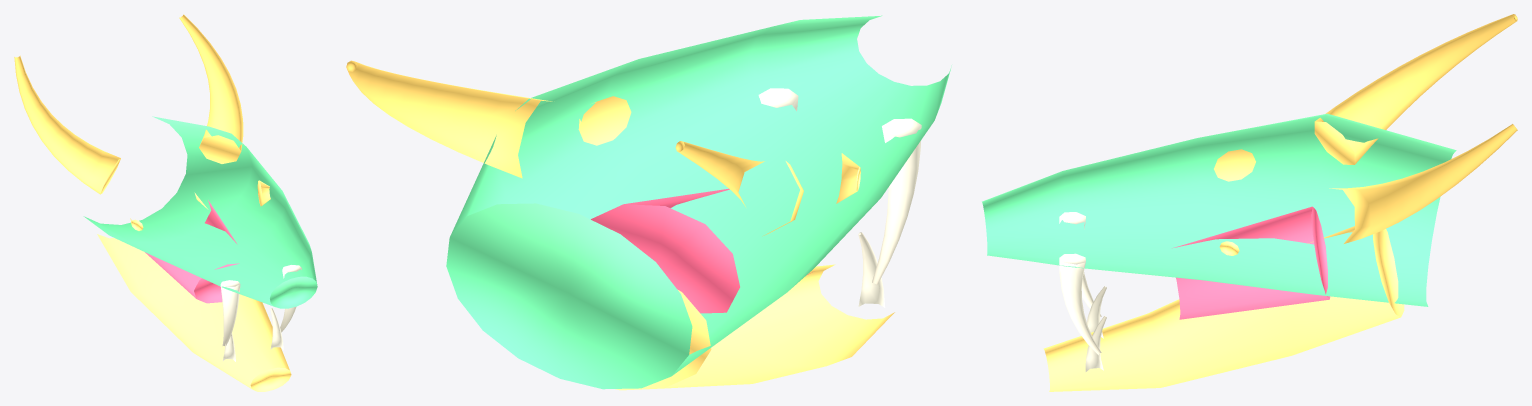
Rendered from snake_head.glb.
The picture shows the model from 3 angles, left to right: view 1: azimuth 30°, elevation 25°; view 2: azimuth 150°, elevation 25°; view 3: azimuth 270°, elevation 25°; orthographic projection. The views are drawn at different scales.
Visible parts, largest first — view 1: snake_head; view 2: snake_head; view 3: snake_head.
Part boxes in pixels (x1,y1,x2,y2): snake_head: (14, 14, 317, 391); snake_head: (346, 15, 951, 390); snake_head: (982, 14, 1517, 391).
Bounding box in the file's own units: 1.14 × 1.3 × 1.99.
